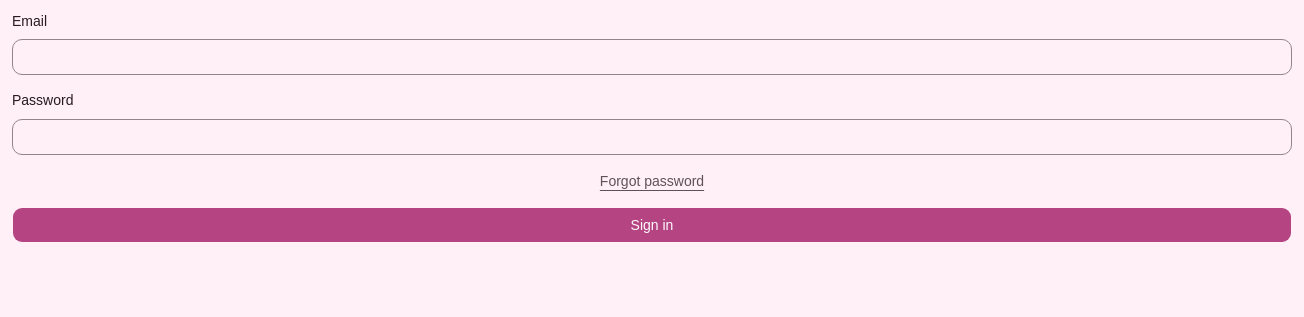
Test case: SignInForm › shows one generic message for bad credentials and keeps what was typed
The width and height of the screenshot is (1304, 317).
Type "nobody@example.test" into the field labelled "Email". click: (652, 57)
box: [12,39,1292,75]
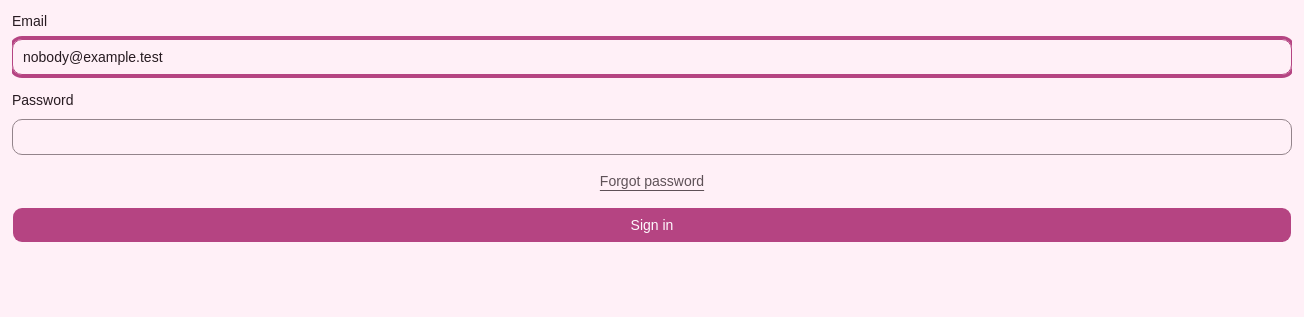
Type "wrong password" into the password field labelled "Password". click: (652, 136)
box: [12,118,1292,154]
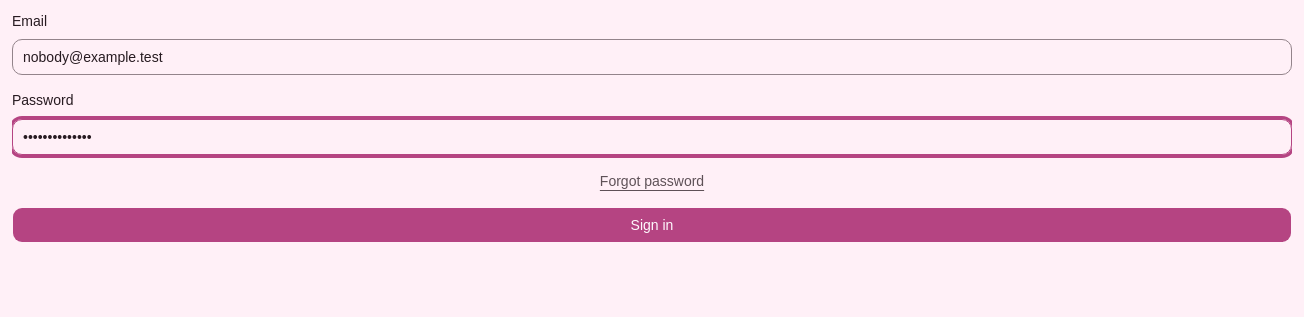
Click the button "Sign in". click: (652, 224)
box: [12,206,1292,242]
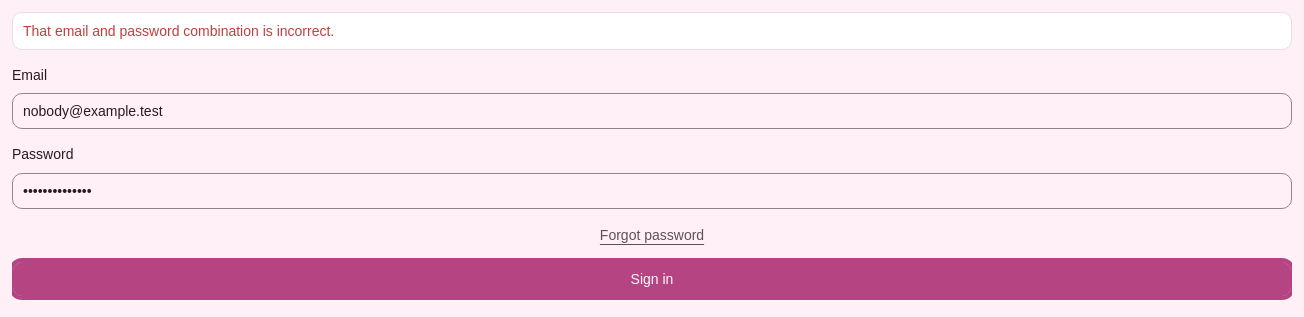
Expected: the message reads "That email and password combination is incorrect.", [23,23,334,39]
